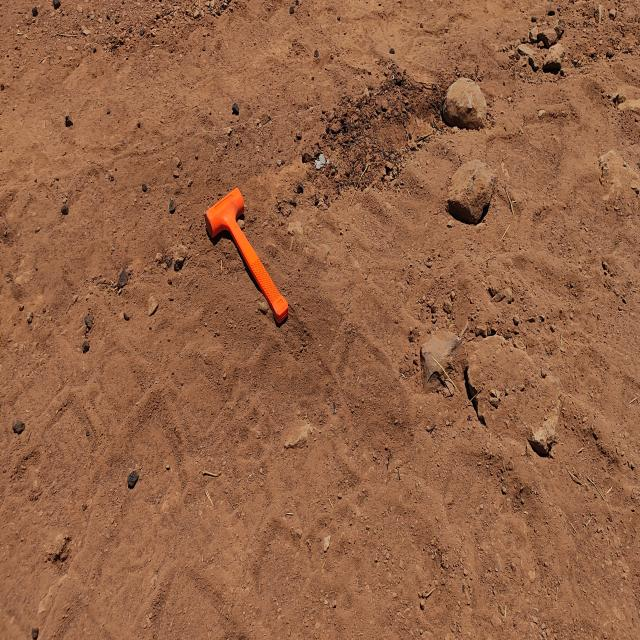Orange_hammer: (204, 186, 288, 327)
